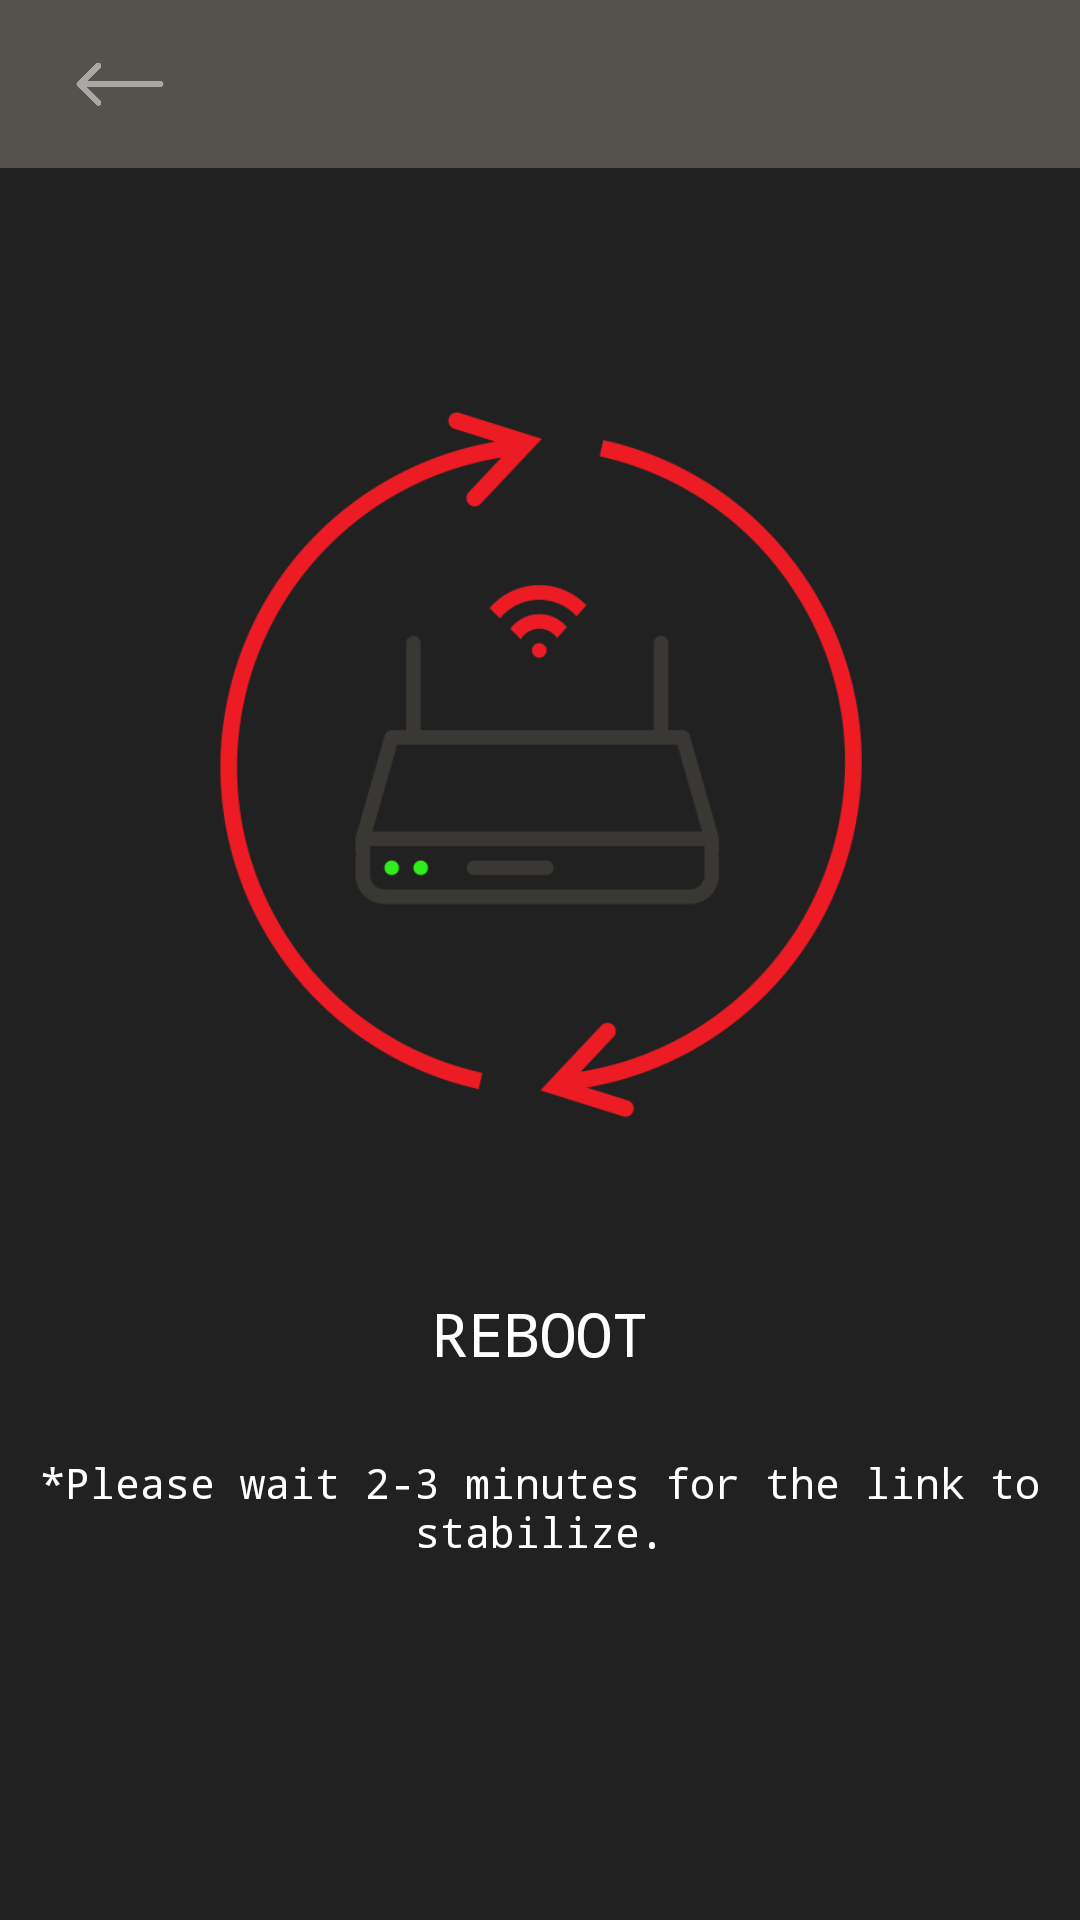

Where icons sit on this 1080×1920 app screen, as {"left": x1, "top": y1, "right": x2, "bottom": y2}:
back: {"left": 76, "top": 63, "right": 164, "bottom": 106}
